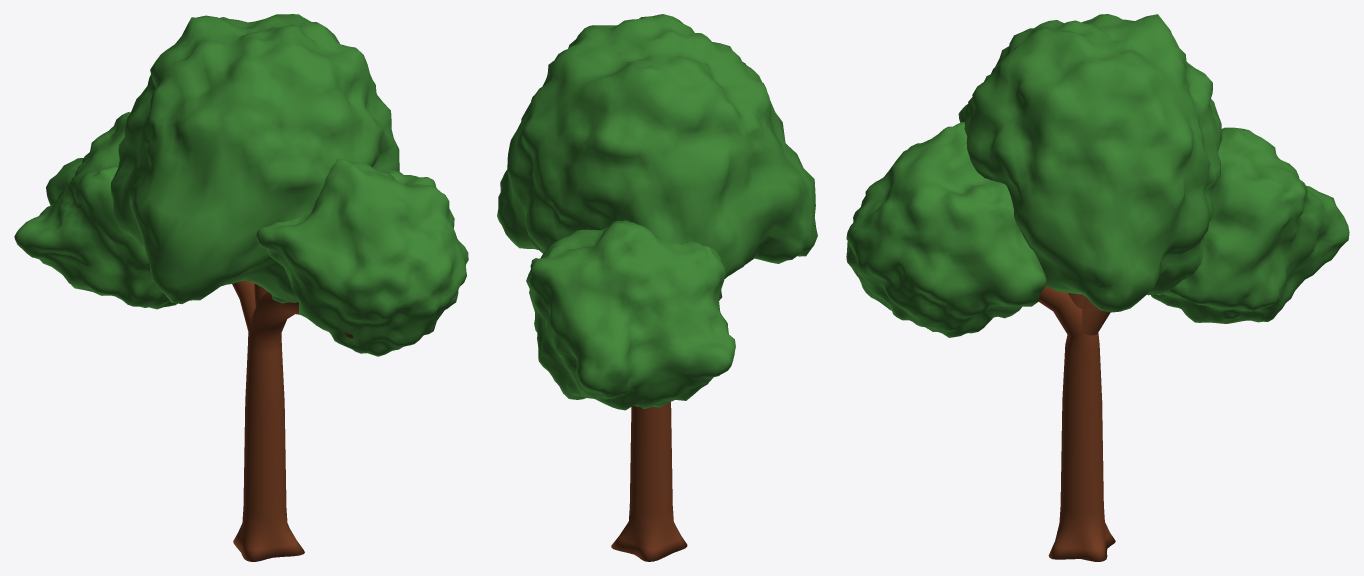
Rendered from tree.fbx.
3 views of the same model, side by side, from view 1: azimuth 30°, elevation 25°; view 2: azimuth 150°, elevation 25°; view 3: azimuth 270°, elevation 25° (orthographic).
Visible parts, largest first — view 1: Icosphere.044, Cylinder.021; view 2: Icosphere.044, Cylinder.021; view 3: Icosphere.044, Cylinder.021.
Boxes of the visible parts, bbox=[...] form: Icosphere.044: bbox=[14, 14, 468, 356]; Cylinder.021: bbox=[232, 281, 353, 561]; Icosphere.044: bbox=[497, 14, 817, 410]; Cylinder.021: bbox=[611, 402, 687, 561]; Icosphere.044: bbox=[846, 14, 1349, 337]; Cylinder.021: bbox=[1038, 285, 1115, 561].
Bounding box in the file's own units: 762 × 1251 × 1093.
